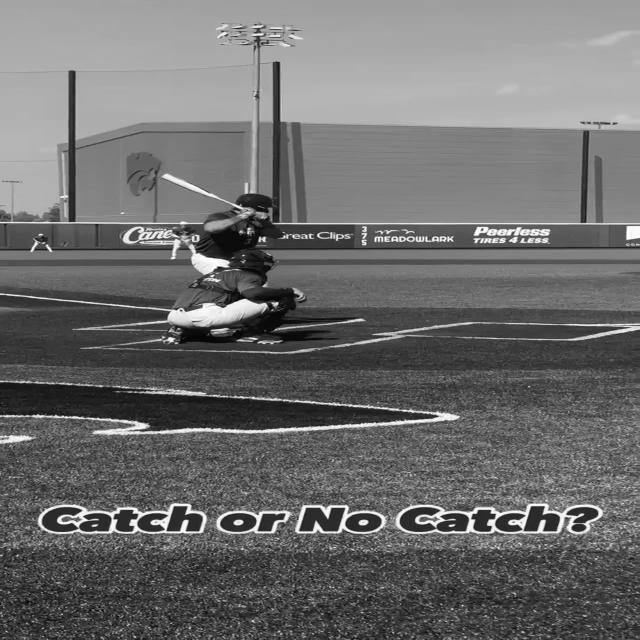bat: (158, 173, 266, 220)
shoe: (235, 332, 283, 344), (160, 326, 187, 345)
